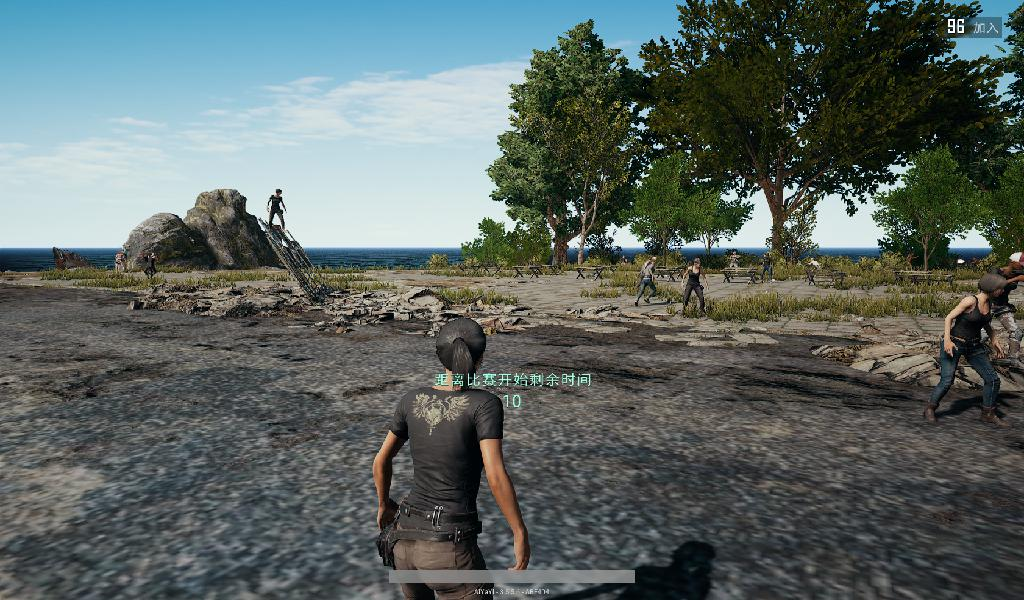Target Person: (371, 317, 535, 600), (922, 273, 1009, 427), (979, 251, 1024, 373), (681, 256, 706, 316), (636, 256, 658, 308), (265, 188, 286, 239), (761, 251, 775, 285)
